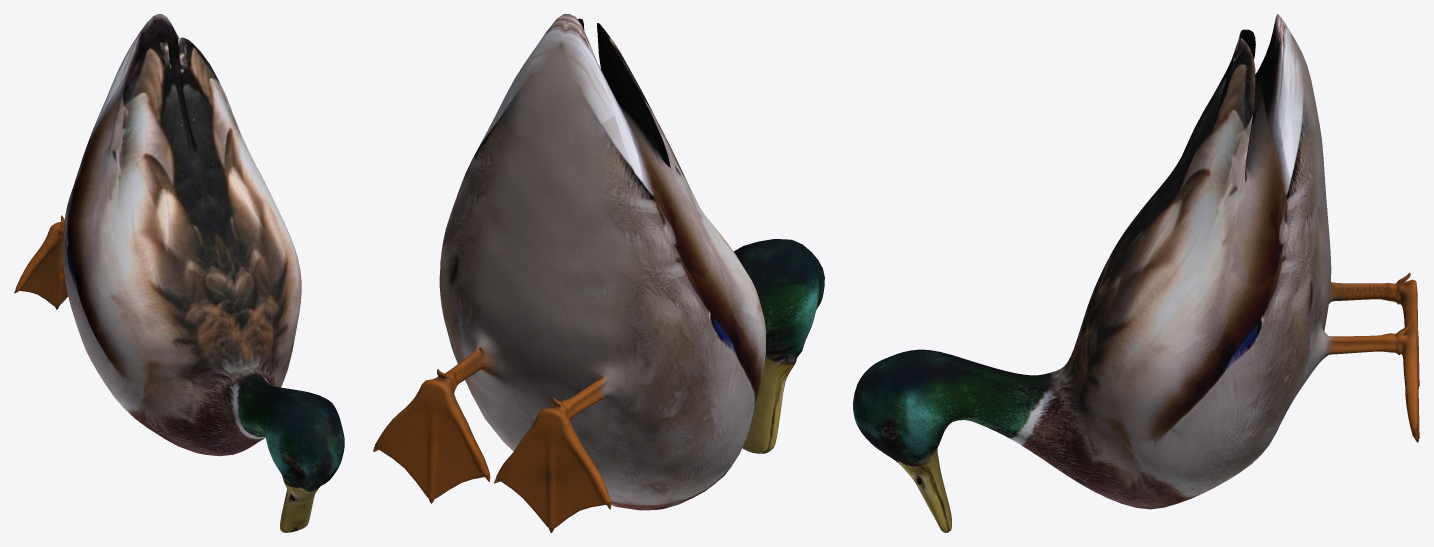
File: duck.obj
3 views of the same model, side by side, from view 1: azimuth 30°, elevation 25°; view 2: azimuth 150°, elevation 25°; view 3: azimuth 270°, elevation 25° (orthographic). The views are drawn at different scales.
Visible parts, largest first — view 1: duck; view 2: duck; view 3: duck.
Boxes of the visible parts, x1,y1,x2,y2 form: duck: (14,14,344,532); duck: (373,14,824,532); duck: (853,14,1419,532).
Bounding box in the file's own units: 28.45 × 56.51 × 56.47.
